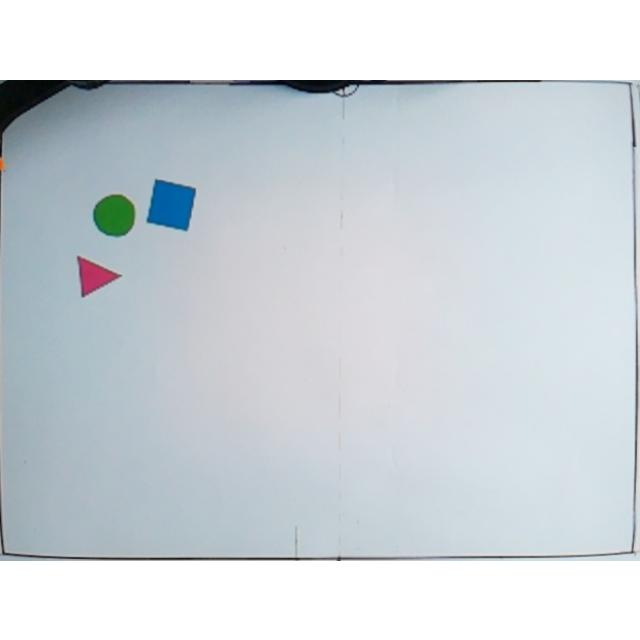blueSquare: (143, 175, 200, 232)
greenCircle: (90, 190, 138, 238)
pinkTriangle: (74, 253, 122, 301)
